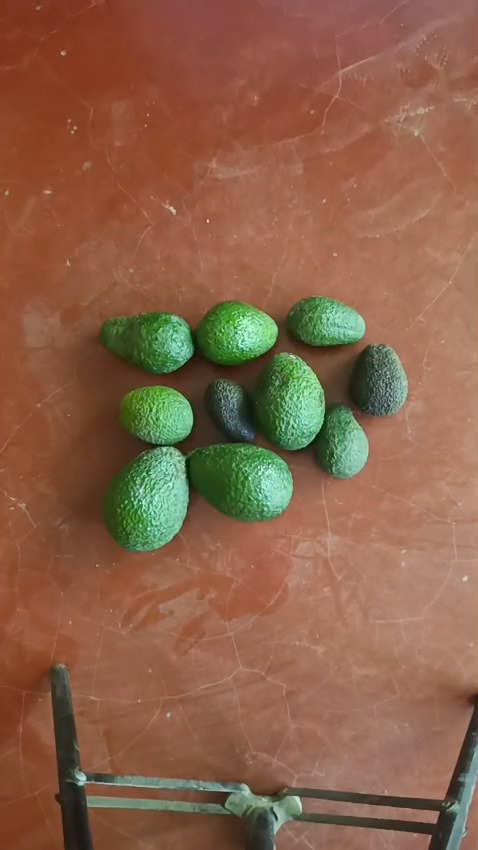Primera: (103, 446, 191, 550), (186, 442, 292, 521)
Segunda: (252, 352, 325, 450), (100, 312, 194, 374)
Tercera: (195, 301, 278, 366), (118, 385, 195, 446), (350, 343, 408, 417), (314, 404, 368, 478), (286, 296, 364, 347), (204, 377, 258, 443)
